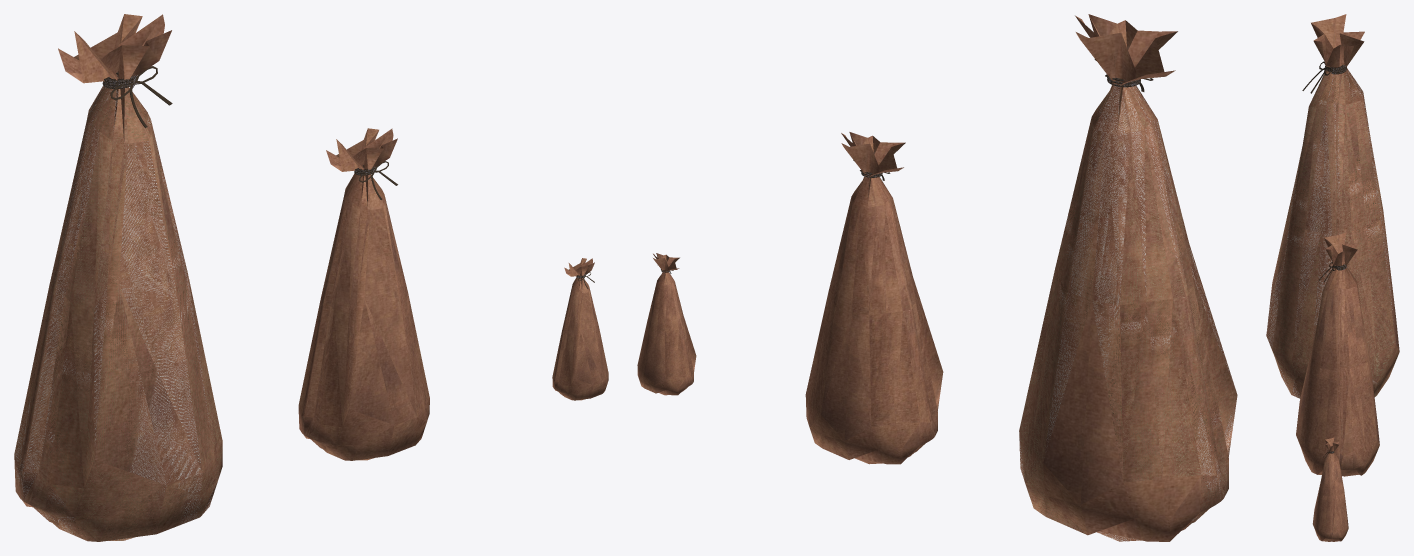
The picture shows the model from 3 angles, left to right: view 1: azimuth 30°, elevation 25°; view 2: azimuth 150°, elevation 25°; view 3: azimuth 270°, elevation 25°; orthographic projection. The views are drawn at different scales.
Parts seen in each view (by area): view 1: GrainSack01_4 (×2), GrainSack01_5 (×3); view 2: GrainSack01_4 (×3), GrainSack01_5 (×5); view 3: GrainSack01_4 (×3), GrainSack01_5 (×4).
Boxes of the visible parts, x1=… form: GrainSack01_4 (×2): x1=14, y1=14, x2=222, y2=541; GrainSack01_5 (×3): x1=298, y1=128, x2=608, y2=460; GrainSack01_4 (×3): x1=1019, y1=14, x2=1237, y2=541; GrainSack01_5 (×5): x1=637, y1=132, x2=943, y2=464; GrainSack01_4 (×3): x1=1266, y1=14, x2=1399, y2=398; GrainSack01_5 (×4): x1=1296, y1=232, x2=1379, y2=541.
Bounding box in the file's own units: 26.03 × 7.12 × 21.9.
